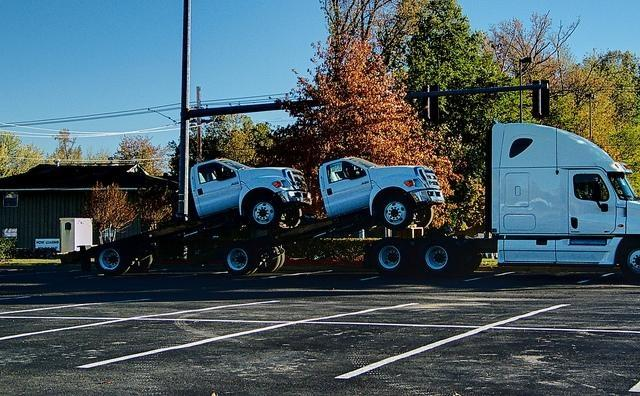truck: (267, 122, 640, 281), (59, 158, 314, 278), (197, 156, 446, 276)
